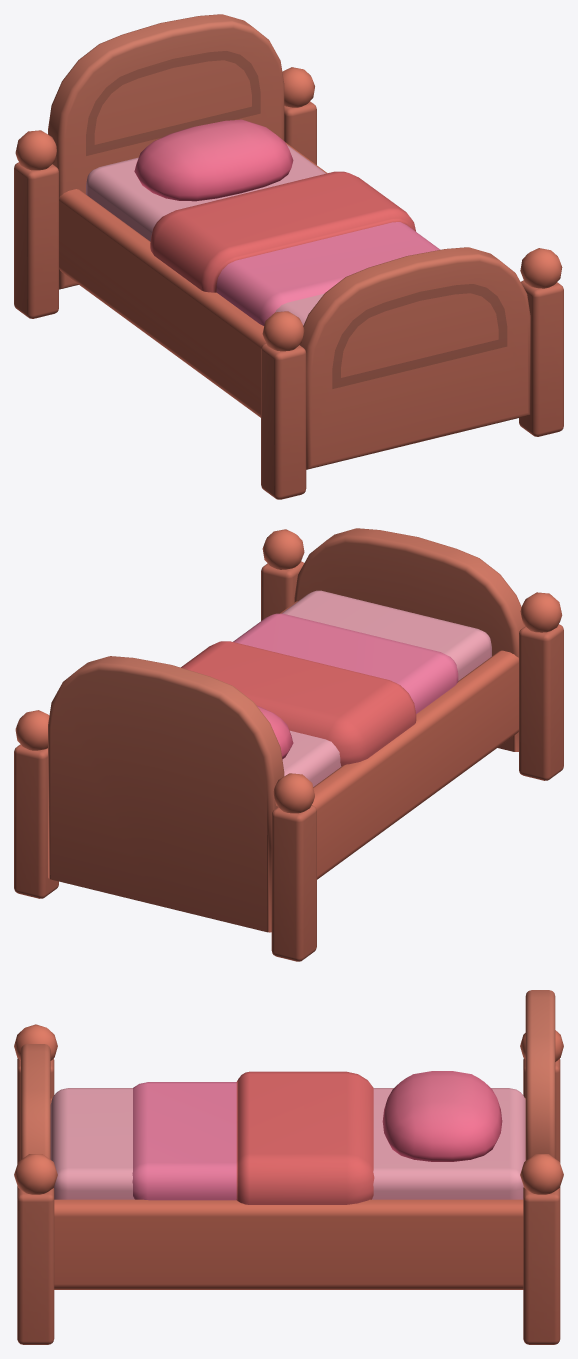
Rendered from Bed_07.glb.
3 renders of one model, top to bottom at view 1: azimuth 30°, elevation 25°; view 2: azimuth 150°, elevation 25°; view 3: azimuth 270°, elevation 25°, orthographic. The views are drawn at different scales.
Visible parts, largest first — view 1: Bed_07; view 2: Bed_07; view 3: Bed_07.
Boxes of the visible parts, <box> form: Bed_07: <box>14,14,563,499</box>; Bed_07: <box>14,528,563,961</box>; Bed_07: <box>14,990,563,1344</box>.
Bounding box in the file's own units: 1.4 × 1.16 × 2.22.
Materials: 1 (1 with a texture image).
